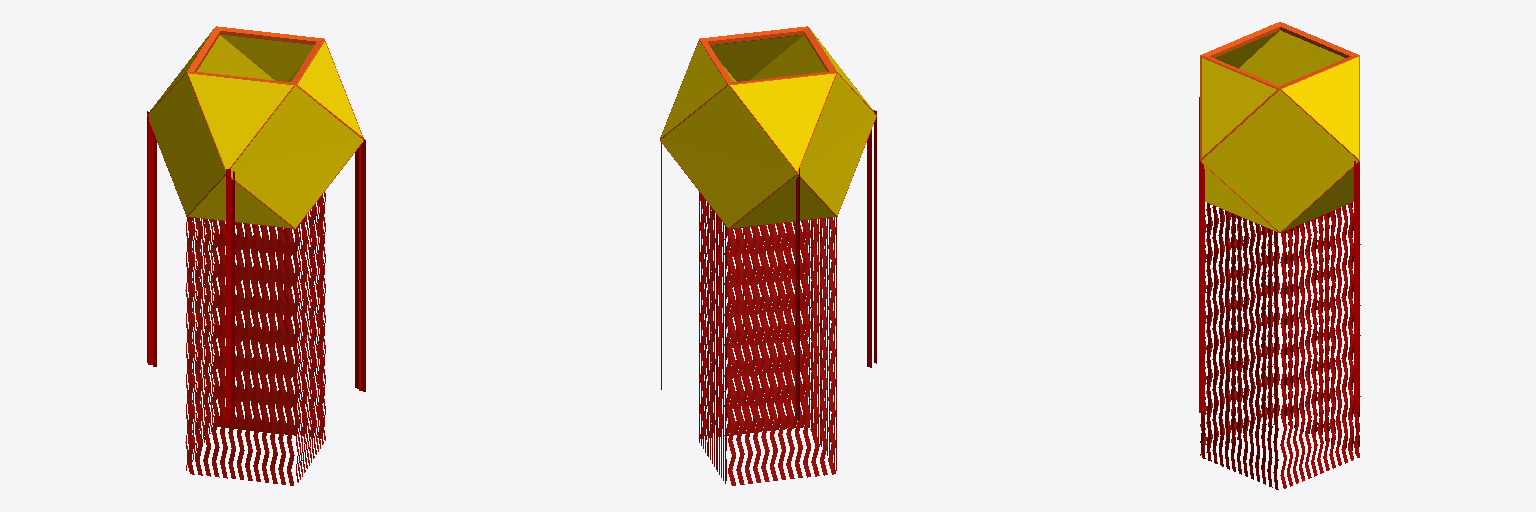
File: lantern2.obj
3 views of the same model, side by side, from view 1: azimuth 30°, elevation 25°; view 2: azimuth 150°, elevation 25°; view 3: azimuth 270°, elevation 25° (orthographic).
Parts seen in each view (by area): view 1: Cube_Cube.001, Plane.001, Plane, Plane.002, Plane.003, Plane.013, Plane.008, Plane.018, Plane.015, Plane.009, Plane.016; view 2: Cube_Cube.001, Plane.003, Plane.002, Plane, Plane.001, Plane.012, Plane.013, Plane.018; view 3: Cube_Cube.001, Plane, Plane.002, Plane.001, Plane.003, Plane.007, Plane.008.
Boxes of the visible parts, x1,y1,x2,y2 form: Cube_Cube.001: [147, 26, 363, 228]; Plane.001: [187, 217, 294, 485]; Plane: [217, 196, 324, 438]; Plane.002: [296, 192, 325, 482]; Plane.003: [185, 217, 214, 470]; Plane.013: [226, 169, 230, 421]; Plane.008: [361, 139, 365, 391]; Plane.018: [148, 113, 152, 364]; Plane.015: [230, 171, 234, 423]; Plane.009: [355, 148, 358, 388]; Plane.016: [153, 133, 156, 366]; Cube_Cube.001: [660, 26, 876, 228]; Plane.003: [728, 217, 836, 485]; Plane.002: [700, 193, 806, 438]; Plane: [699, 192, 726, 483]; Plane.001: [809, 217, 836, 470]; Plane.012: [867, 130, 871, 367]; Plane.013: [874, 110, 876, 363]; Plane.018: [796, 168, 799, 419]; Cube_Cube.001: [1200, 22, 1359, 232]; Plane: [1280, 203, 1360, 488]; Plane.002: [1200, 203, 1278, 489]; Plane.001: [1200, 204, 1279, 455]; Plane.003: [1282, 203, 1359, 453]; Plane.007: [1354, 161, 1358, 412]; Plane.008: [1199, 161, 1203, 412].
Size of the model in its own units: 2.02 by 5.56 by 2.02.